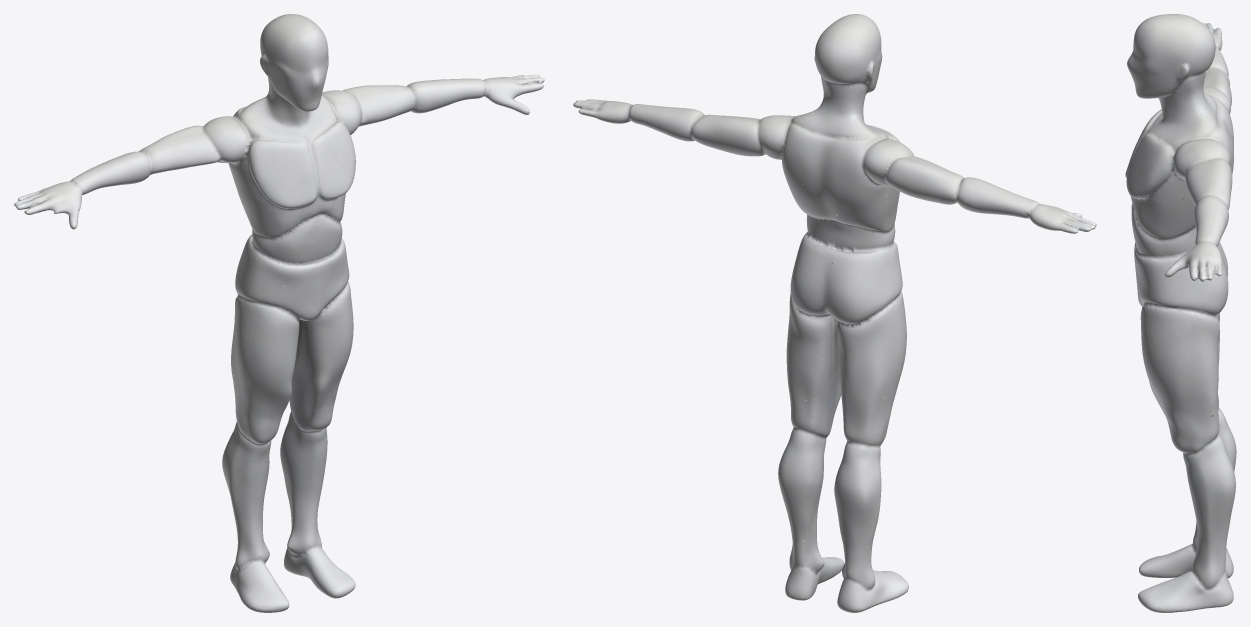
The model's file is Meshy_AI_Shadow_Armor_0425214023_texture_compressed.glb.
The picture shows the model from 3 angles, left to right: view 1: azimuth 30°, elevation 25°; view 2: azimuth 150°, elevation 25°; view 3: azimuth 270°, elevation 25°; orthographic projection.
Size of the model in its own units: 1.92 by 2 by 0.3516.
1 material, 1 textured.
